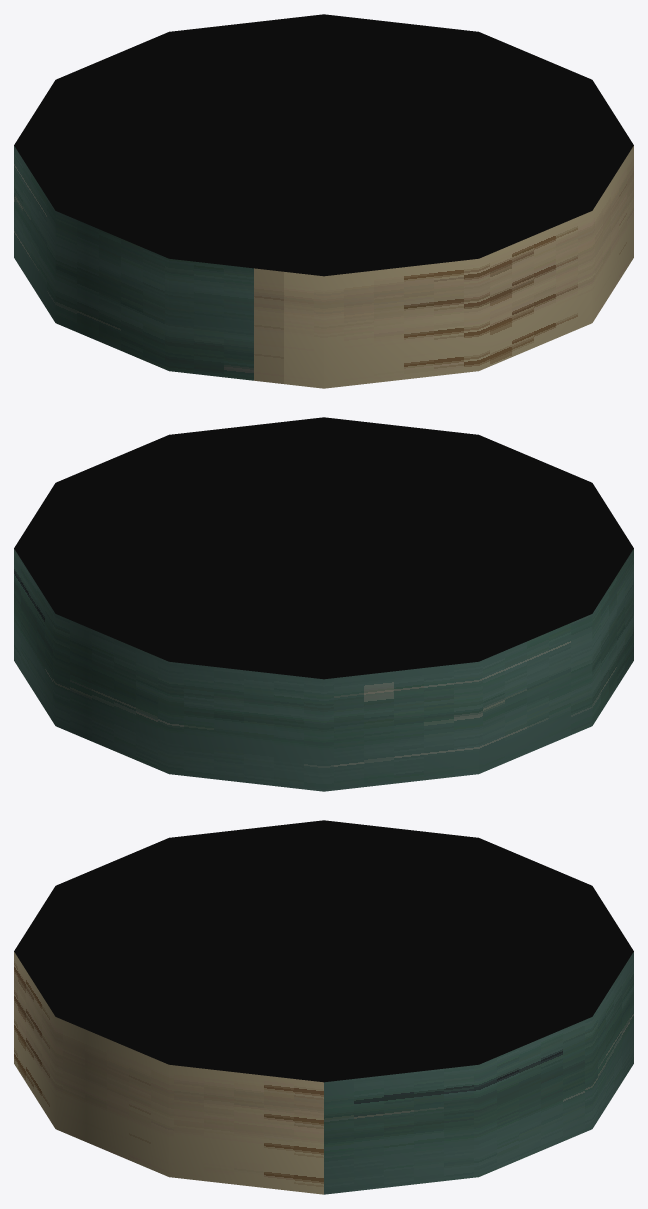
Rendered from ink_ribbon.glb.
3 renders of one model, top to bottom at view 1: azimuth 30°, elevation 25°; view 2: azimuth 150°, elevation 25°; view 3: azimuth 270°, elevation 25°, orthographic.
Parts seen in each view (by area): view 1: ink_ribbon; view 2: ink_ribbon; view 3: ink_ribbon.
Boxes of the visible parts, x1,y1,x2,y2 form: ink_ribbon: [14, 14, 633, 388]; ink_ribbon: [14, 417, 633, 791]; ink_ribbon: [14, 820, 633, 1194].
Bounding box in the file's own units: 0.06 × 0.012 × 0.06.
